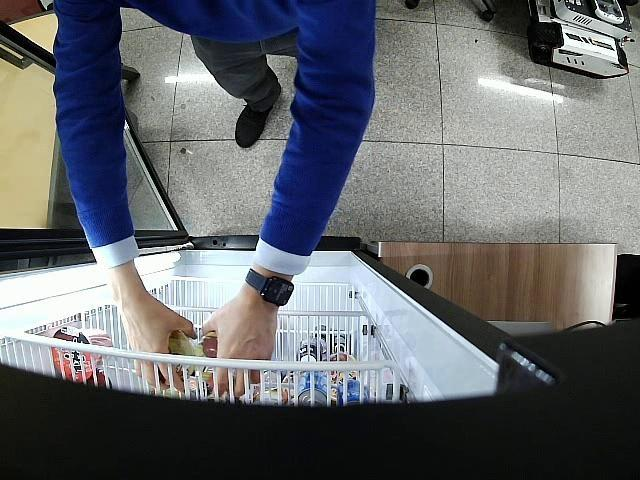04_chapagetti_S: (195, 331, 236, 392), (158, 329, 198, 384)
